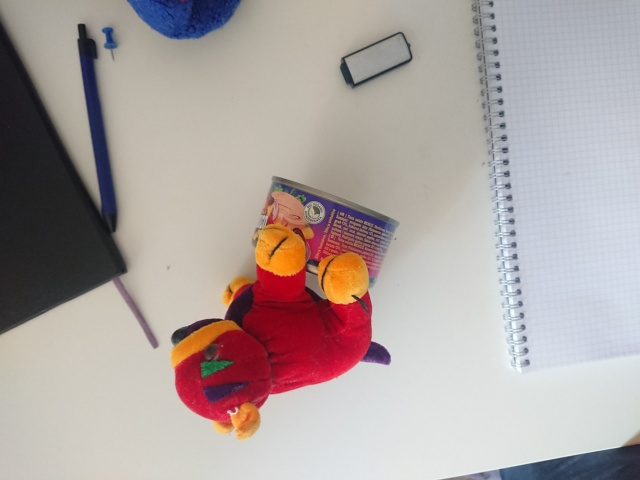Giana Tuna Salad Mexico 185g: (250, 171, 403, 292)
